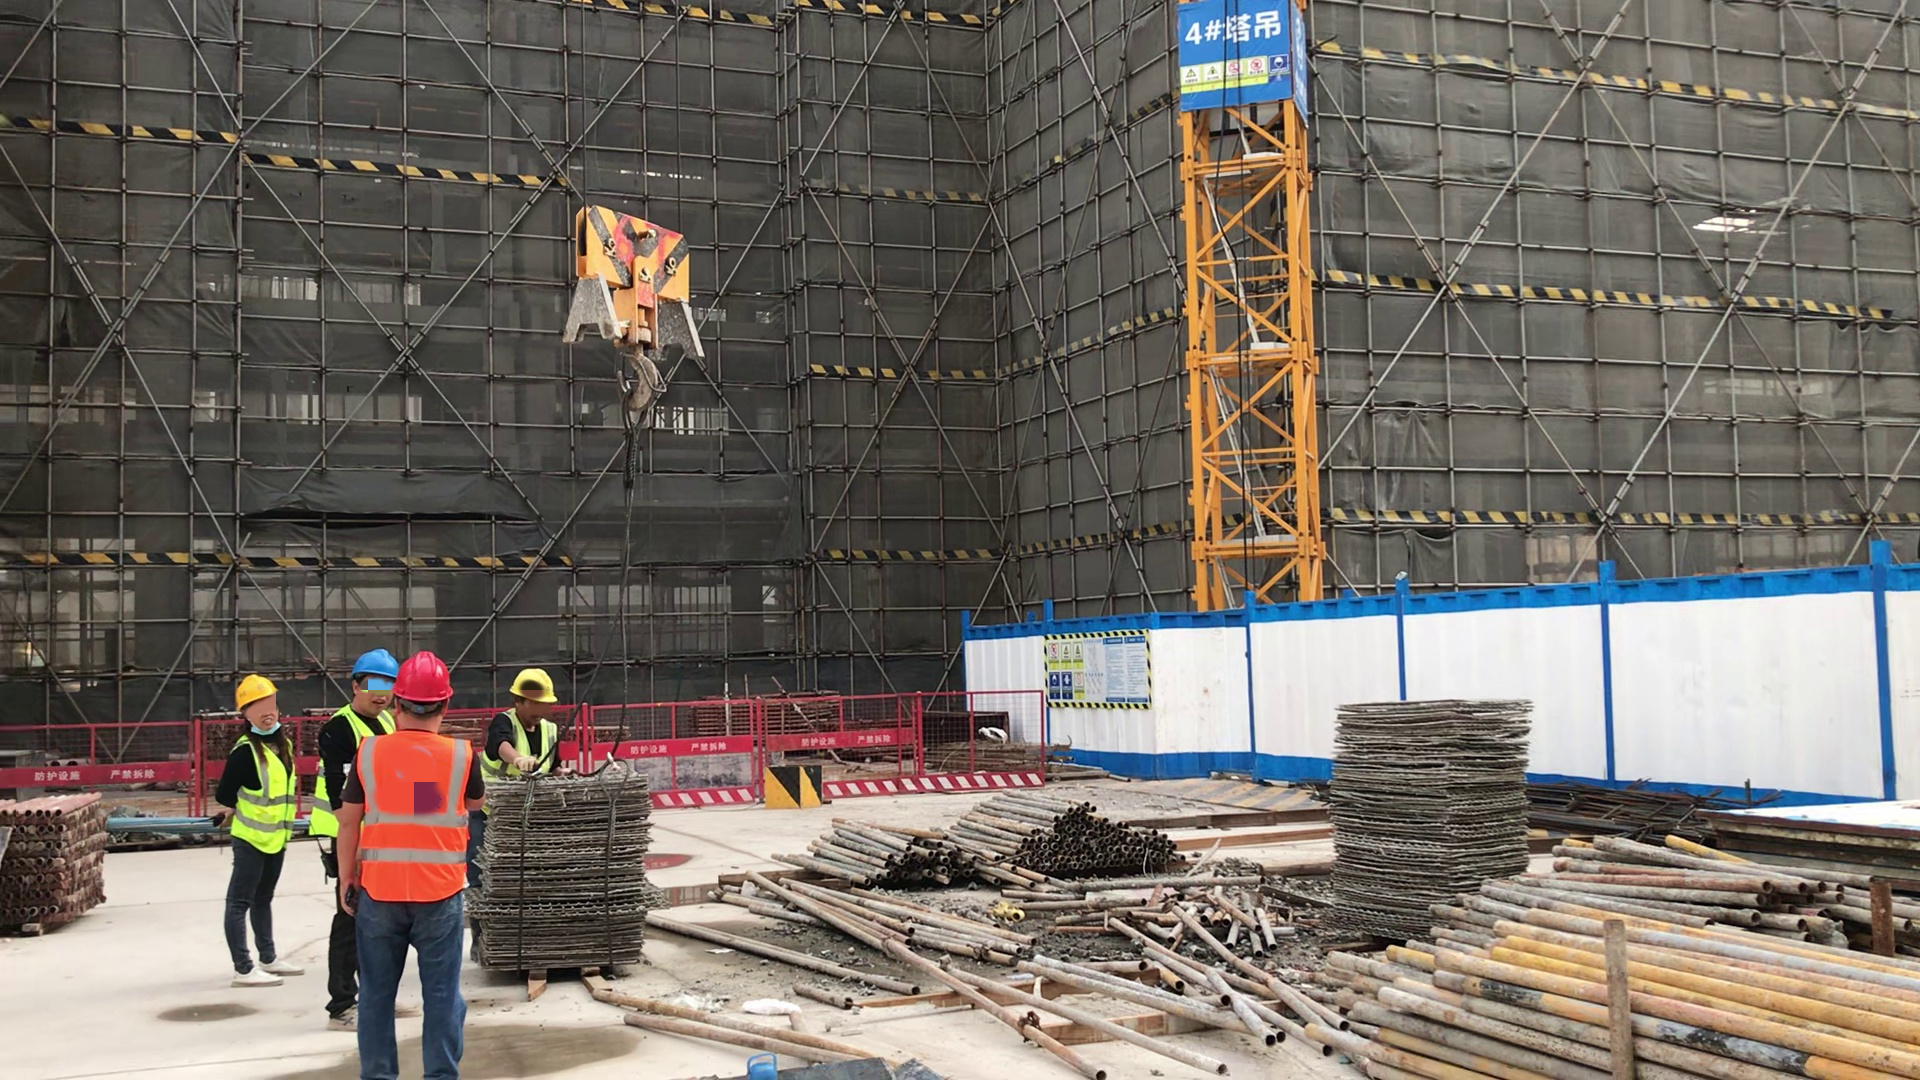fence: (817, 687, 1044, 787), (3, 716, 197, 787), (645, 700, 760, 808)
helmet: (392, 650, 459, 702), (507, 668, 558, 704), (231, 677, 279, 708), (350, 653, 395, 682)
hook: (560, 201, 708, 416)
person: (336, 650, 493, 1080), (210, 672, 312, 987), (489, 666, 564, 775), (321, 650, 394, 732)
scaffold: (1324, 893, 1903, 1080), (1536, 826, 1865, 950), (989, 786, 1187, 886), (766, 816, 988, 891), (3, 791, 108, 939)
slogan: (1177, 5, 1287, 101), (1044, 637, 1151, 709)
vest: (352, 731, 470, 910), (231, 733, 298, 857), (485, 710, 555, 777)
